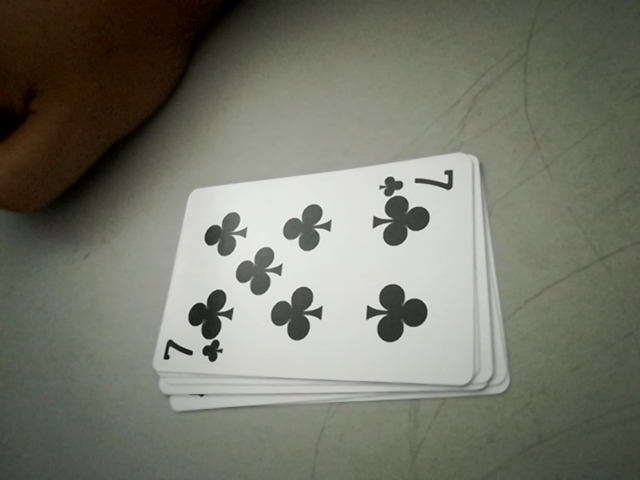mh 7: (379, 163, 462, 196), (158, 336, 224, 370)
